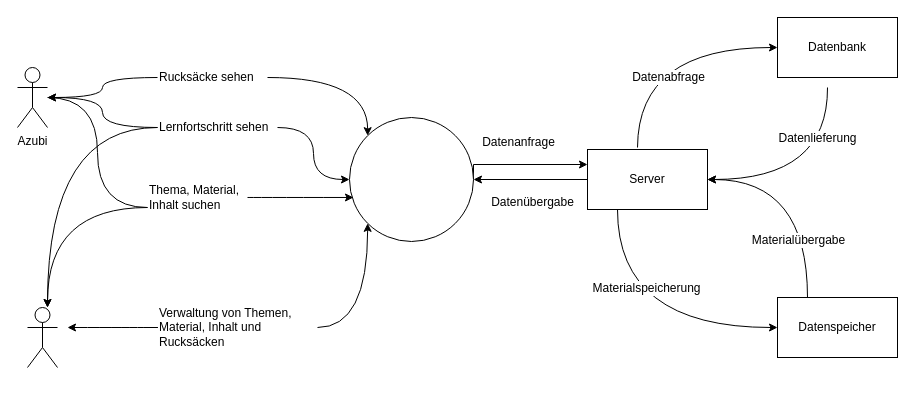
Some shapes in this 915 by 406 pixel diagram are drawn without their labels. The centre of each missing label's shape, as x and y in pixels:
Experte: [42,337]
Lernsystem: [411,179]
